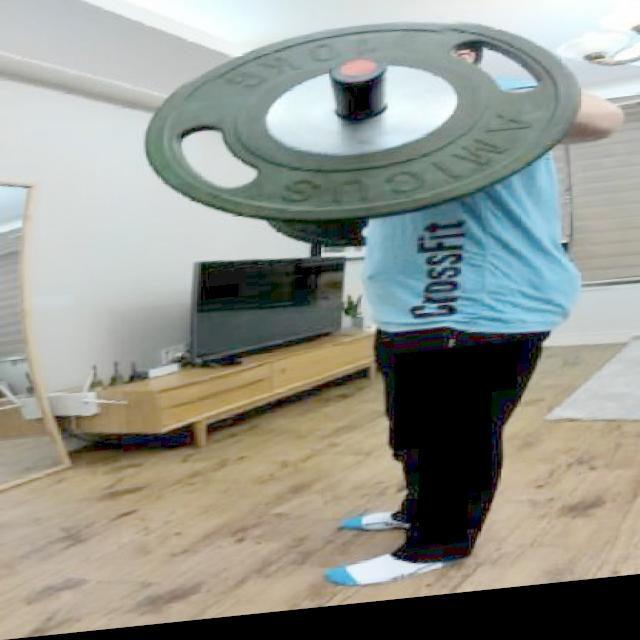barbell: (131, 12, 591, 249)
